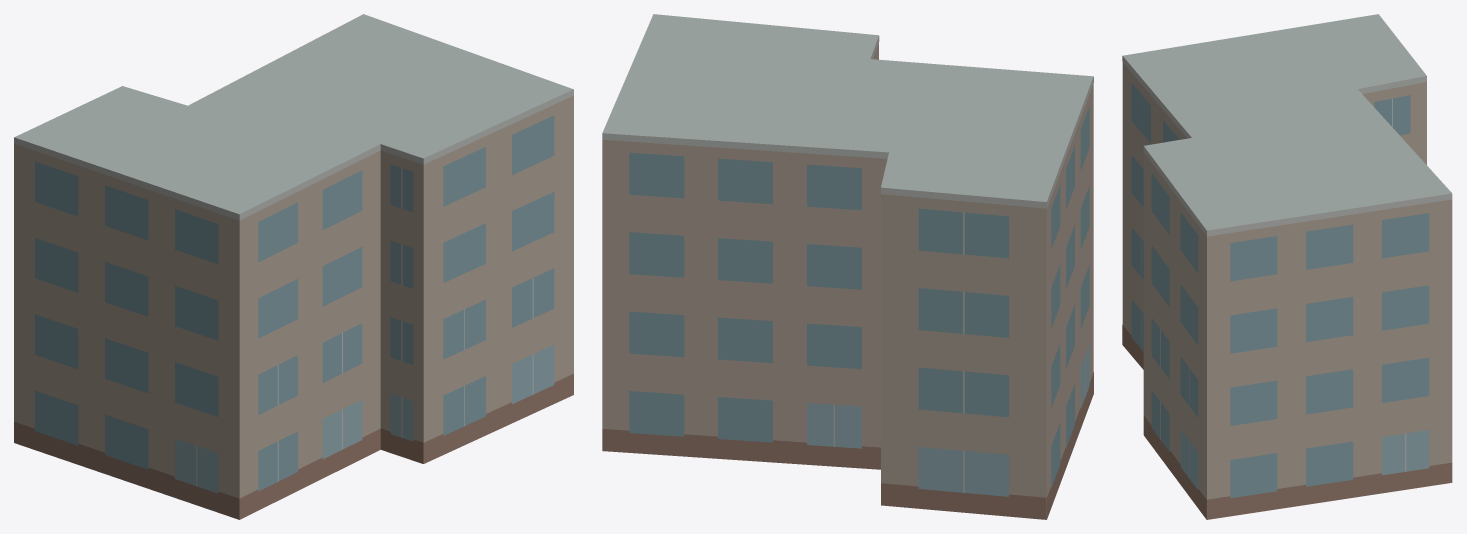
The model's file is survey-upis-32823606.glb.
The picture shows the model from 3 angles, left to right: view 1: azimuth 30°, elevation 25°; view 2: azimuth 150°, elevation 25°; view 3: azimuth 270°, elevation 25°; orthographic projection. The views are drawn at different scales.
Parts seen in each view (by area): view 1: survey-upis-32823606.tmp; view 2: survey-upis-32823606.tmp; view 3: survey-upis-32823606.tmp.
Part boxes in pixels (x1,y1,x2,y2): survey-upis-32823606.tmp: (14, 14, 573, 519); survey-upis-32823606.tmp: (602, 14, 1093, 519); survey-upis-32823606.tmp: (1122, 14, 1452, 519).
Size of the model in its own units: 19.12 by 11.9 by 12.31.
